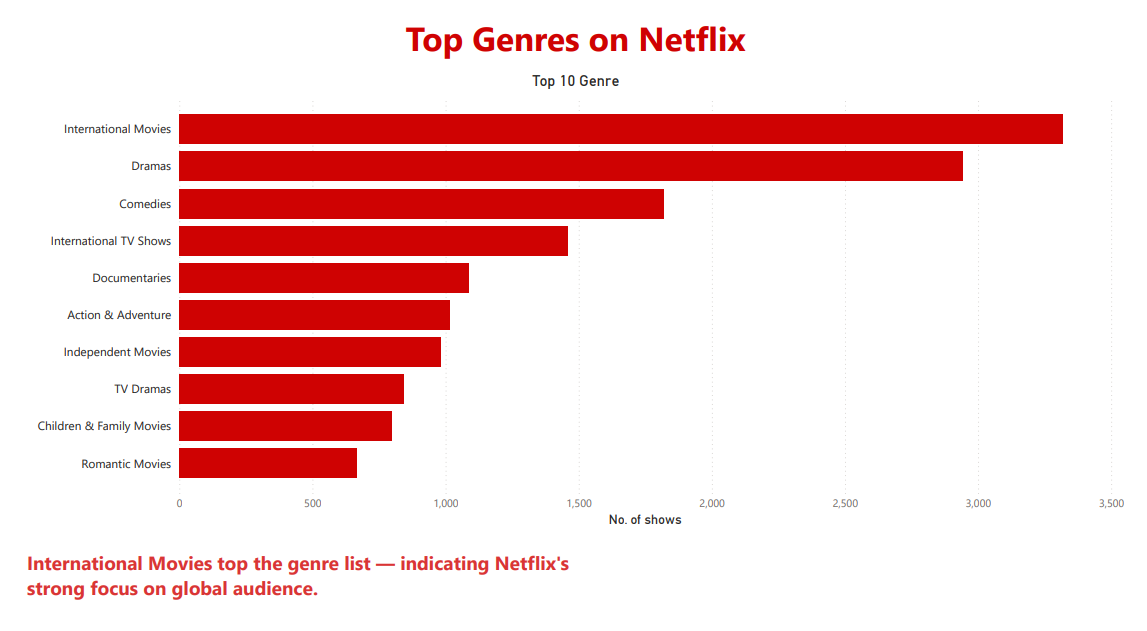

What the dashboard file says about the page in this screenshot:
{"tool":"powerbi","page":{"name":"Top Category","canvas":[1280,720],"ordinal":3},"visuals":[{"type":"barChart","title":"Top 10 Genre ","fields":{"Category":["netflix_titles.listed_in"],"Y":["CountNonNull(netflix_titles.show_id)"]},"box":[14.7,83.2,1243.6,517.3],"z":0},{"type":"textbox","box":[344.8,14.7,583.3,68.5],"z":1000},{"type":"textbox","box":[14.7,615.1,634.7,78.3],"z":2000}]}

Visuals, with their boxes in screenshot pixels (x1, y1, x2, y2), scaled from the page's 1280x720 canvas onto the 1147x631 screenshot:
"Top 10 Genre " barChart: pyautogui.locateOnScreen(13, 73, 1128, 526)
textbox: pyautogui.locateOnScreen(309, 13, 832, 73)
textbox: pyautogui.locateOnScreen(13, 539, 582, 608)
